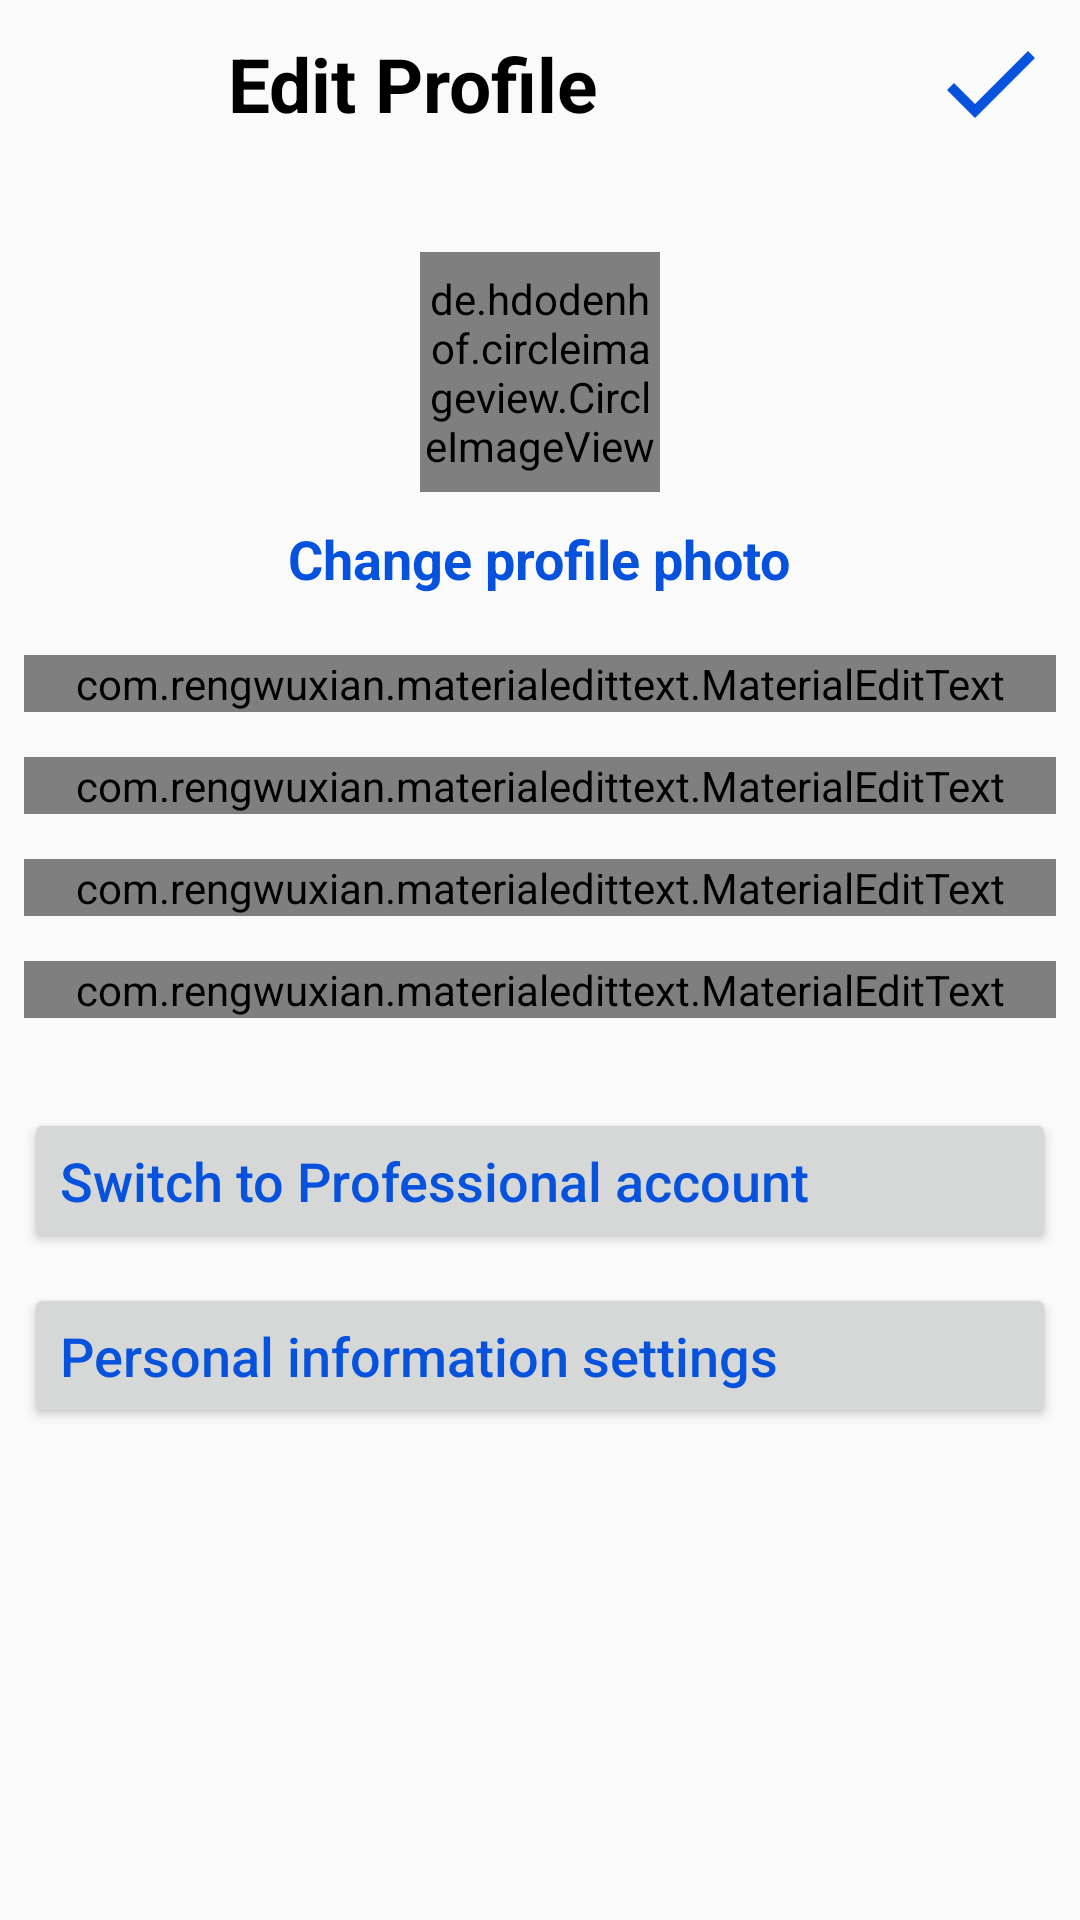

Icons on this 1080*1920 Android screen, each with the point to tap as point (x, y):
done: point (991, 84)
